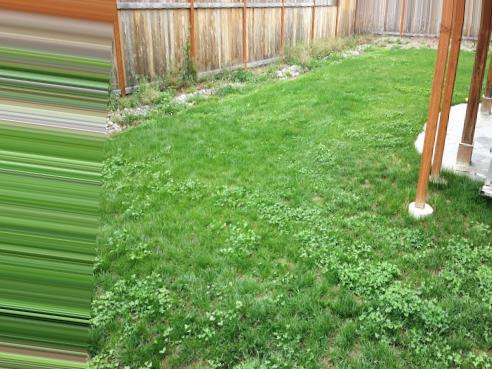patch: (352, 184, 386, 217), (311, 185, 331, 206), (383, 147, 403, 167)
